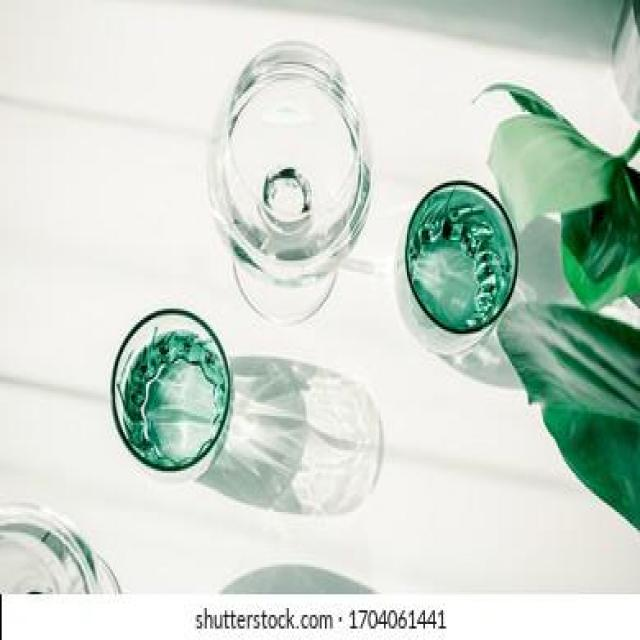non-organic waste: (211, 39, 376, 324), (106, 303, 235, 483)
